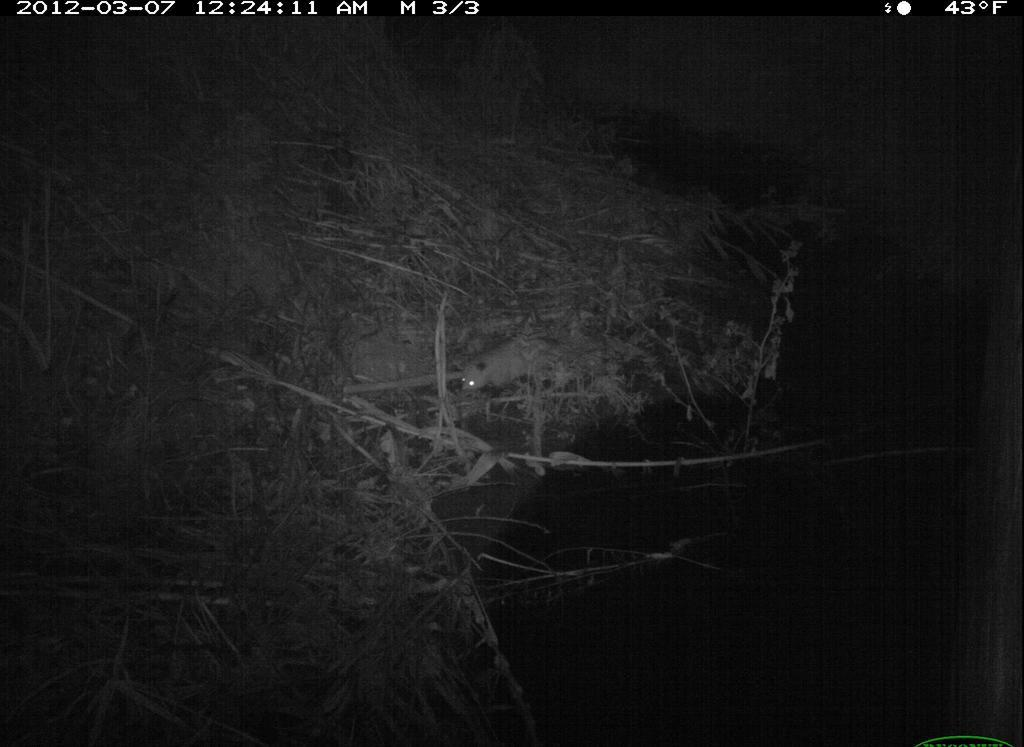opossum: (437, 314, 559, 401)
